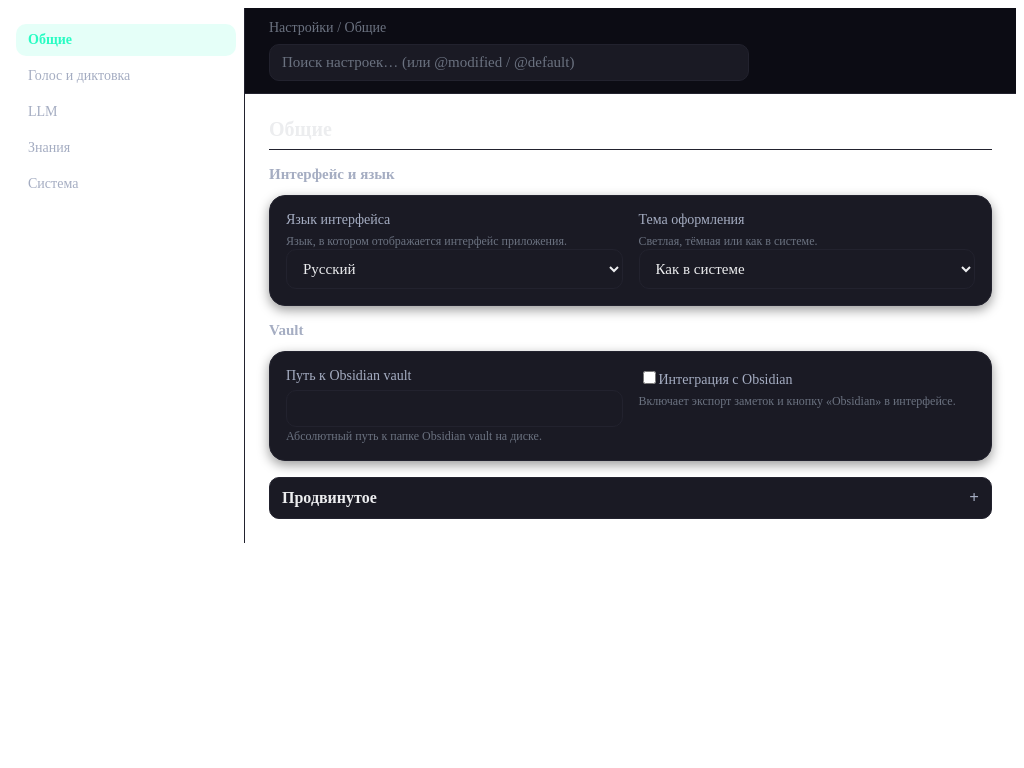
Test case: Settings search — live filter › unknown query shows empty state
Type "zzznonexistent999xyz" into the field with test id "settings-search" at (509, 62), box [270, 45, 748, 80]
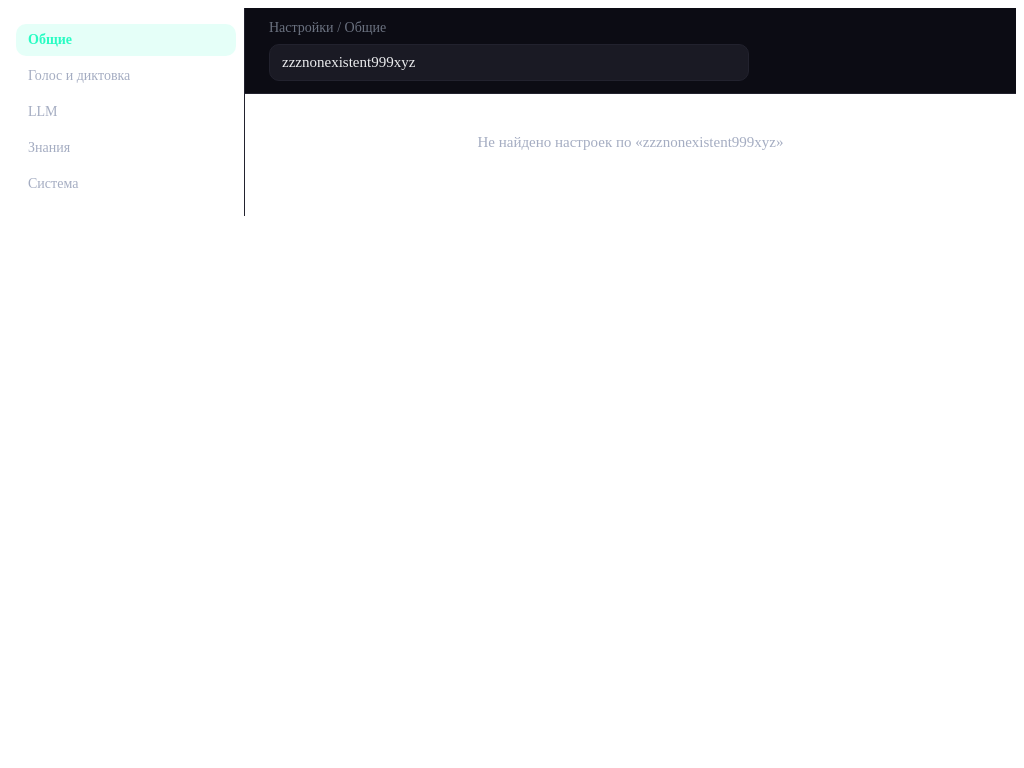
expect the text "Не найдено настроек по «zzznonexistent999xyz»" is shown: met, box [478, 134, 784, 150]
